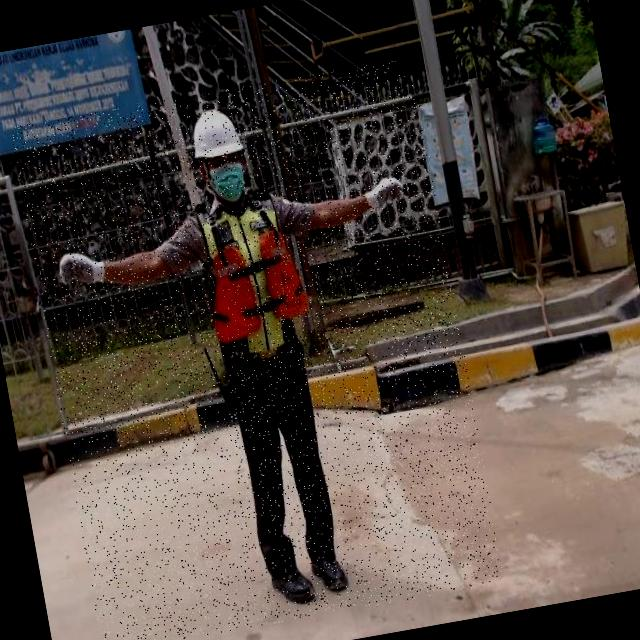boots: (266, 554, 316, 608), (310, 548, 352, 598)
gloves: (40, 224, 112, 310), (354, 160, 409, 219)
helmet: (186, 106, 247, 160)
vest: (188, 190, 314, 348)
